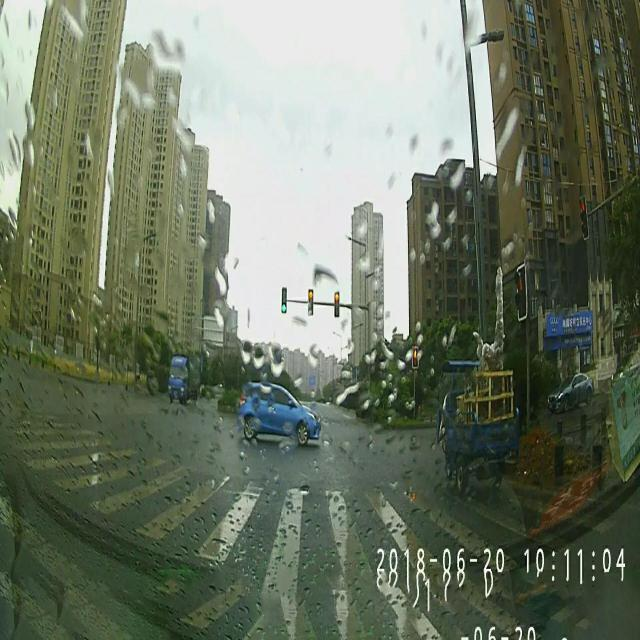car: (237, 382, 320, 442), (546, 371, 594, 412), (168, 351, 200, 400)
